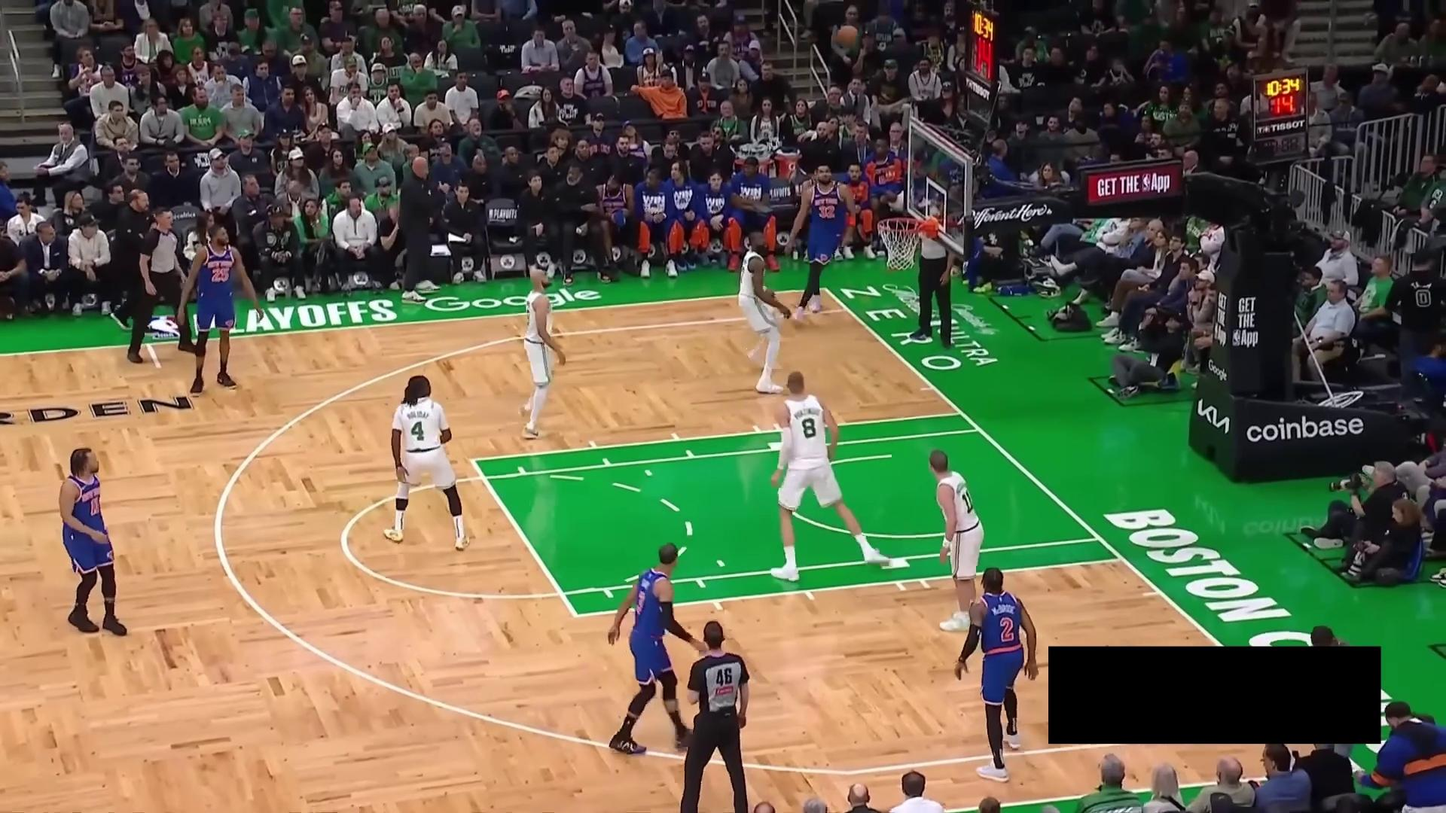ball: (834, 24, 858, 49)
number: (959, 489, 974, 514), (999, 616, 1013, 641), (801, 418, 817, 439), (411, 421, 426, 442), (635, 590, 647, 614), (214, 265, 231, 281), (819, 204, 835, 219), (89, 498, 101, 517)
player: (767, 370, 894, 582), (606, 543, 695, 756), (956, 567, 1043, 783), (382, 375, 471, 552), (179, 220, 266, 395), (60, 447, 129, 638), (782, 161, 857, 318), (929, 449, 986, 632), (736, 226, 796, 396), (520, 263, 566, 440)
referee: (679, 620, 754, 813), (126, 209, 200, 364), (911, 231, 959, 350)
rim: (878, 217, 925, 234)
